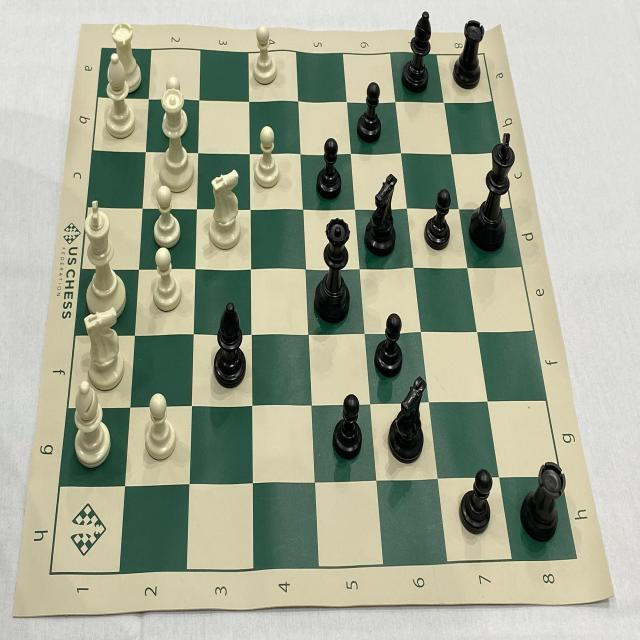black-bishop: (209, 297, 248, 392), (402, 7, 436, 97)
black-king: (466, 130, 517, 255)
black-knight: (387, 370, 431, 470), (363, 167, 398, 260)
black-pawn: (456, 462, 496, 540), (329, 388, 365, 461), (419, 183, 454, 257), (372, 311, 406, 380), (313, 133, 344, 207), (354, 79, 382, 146)
black-queen: (313, 210, 354, 329)
black-rook: (517, 457, 568, 546), (452, 15, 488, 96)
white-bishop: (70, 377, 114, 467), (101, 52, 139, 142)
white-king: (82, 194, 128, 320)
white-knight: (81, 304, 127, 395), (204, 167, 243, 256)
white-pawn: (143, 390, 179, 465), (148, 246, 183, 317), (248, 23, 280, 88), (159, 74, 191, 138), (151, 183, 181, 251), (253, 125, 282, 193)
white-queen: (151, 90, 198, 193)
white-rook: (108, 14, 144, 96)
